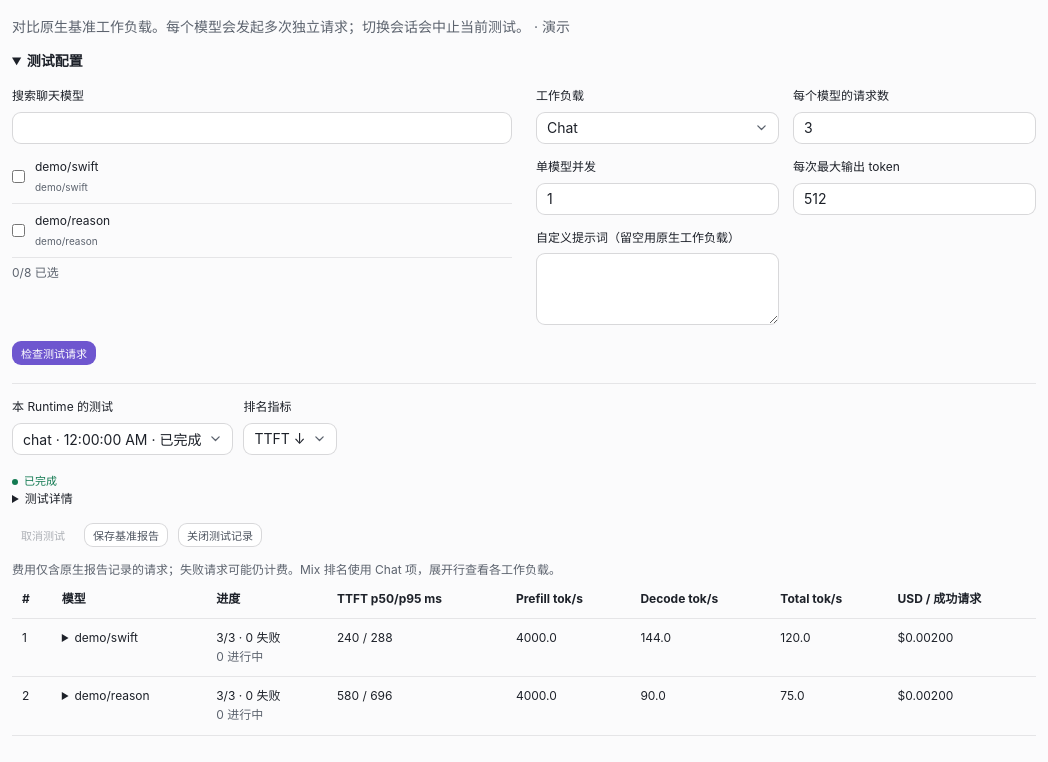
preview benchmarks require review and keep reports and requests local
This screenshot has width=1048, height=762.
Click the checkbox labelled "demo/swift demo/swift".
click(18, 176)  # box [12,170,25,183]
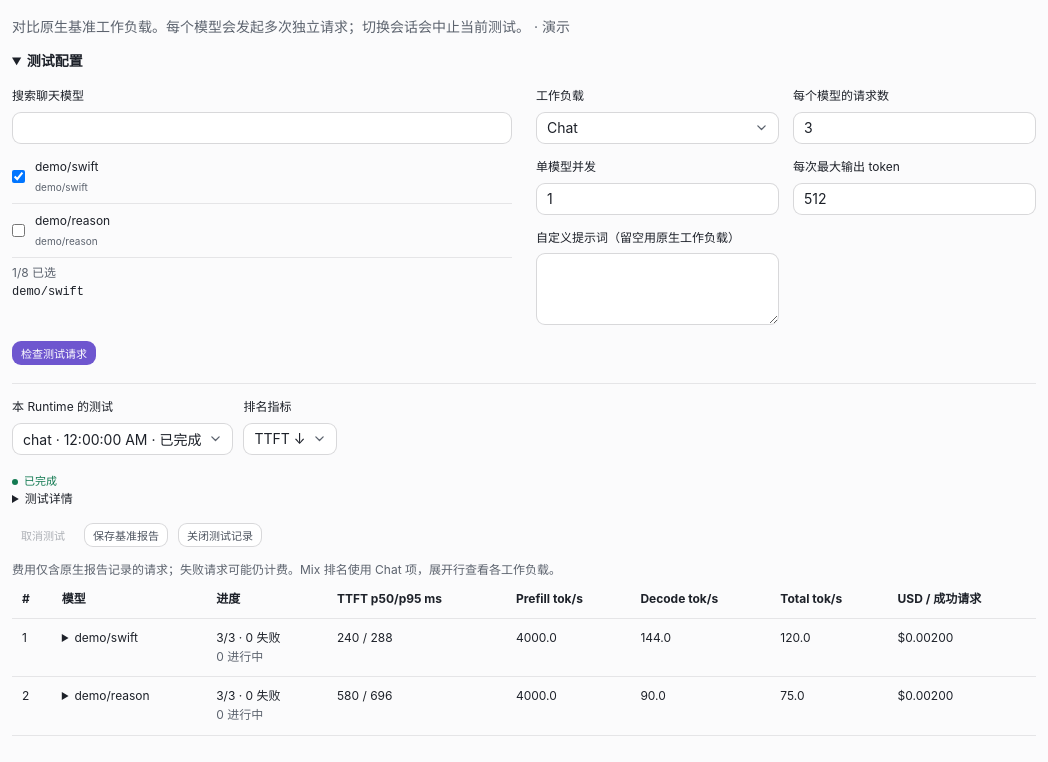
Click the button "检查测试请求".
click(54, 353)  # box [12,341,96,365]
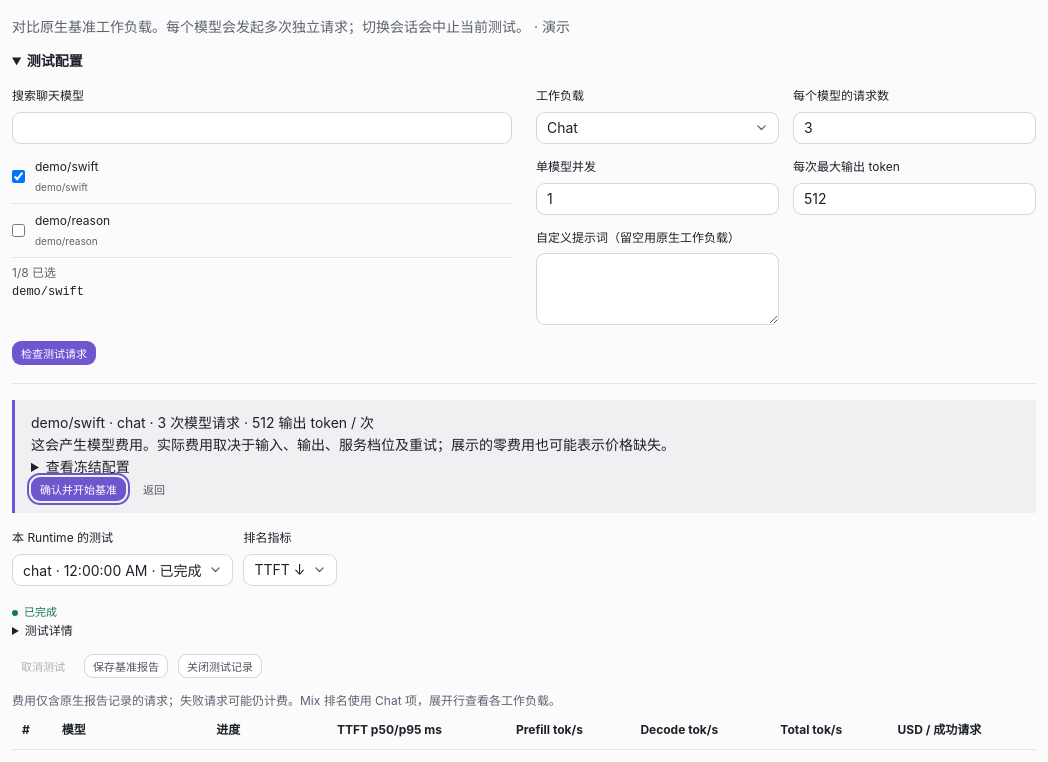
Now the element named "确认基准测试" is shown, box [12,400,1036,513]
Click the button "确认并开始基准".
click(78, 489)  # box [31,477,126,501]
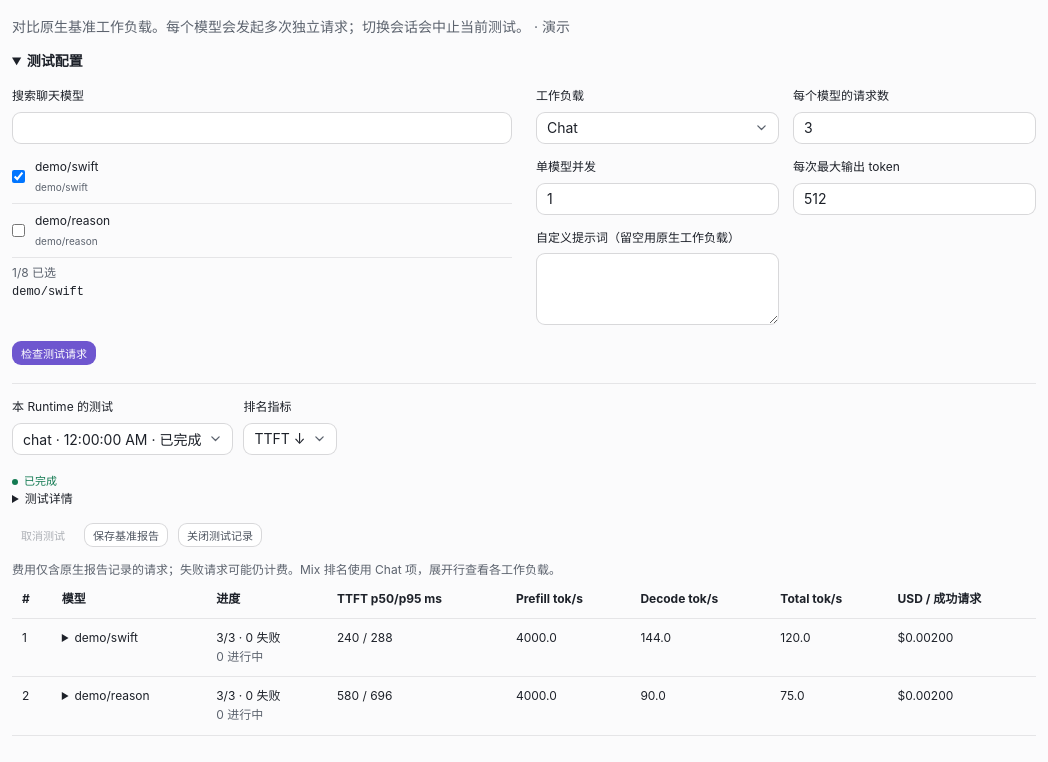
Click the button "保存基准报告".
click(126, 535)  # box [84,523,168,547]
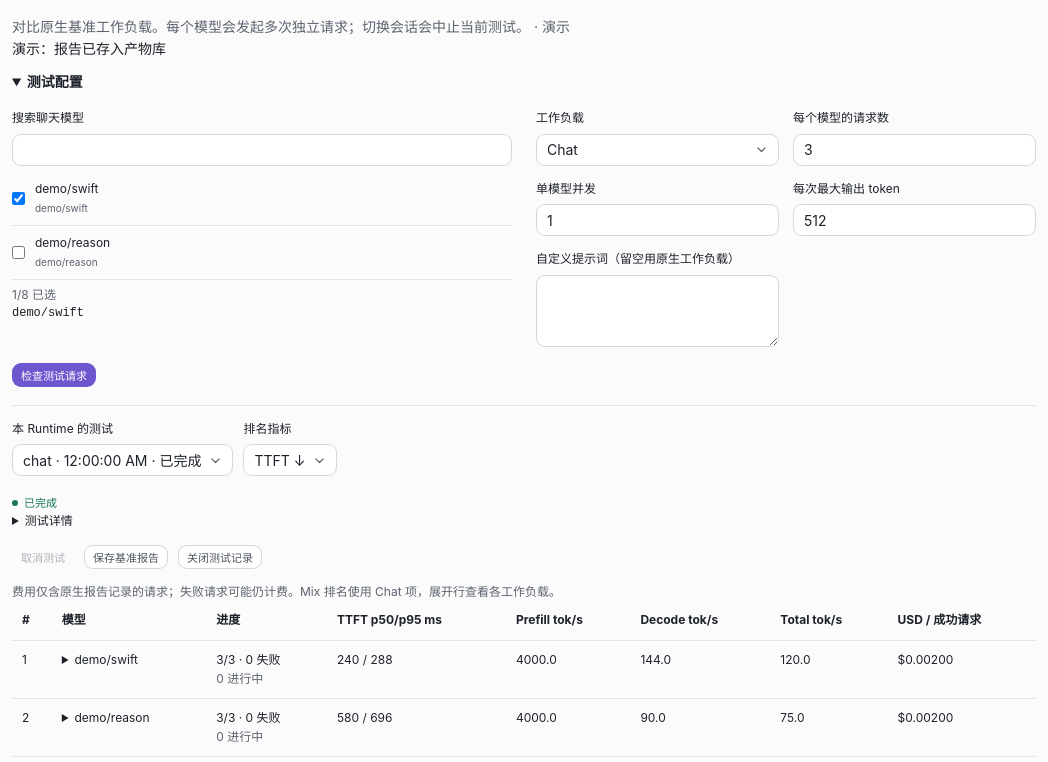
Now the text "演示：报告已存入产物库" is shown, box [12,40,166,57]
